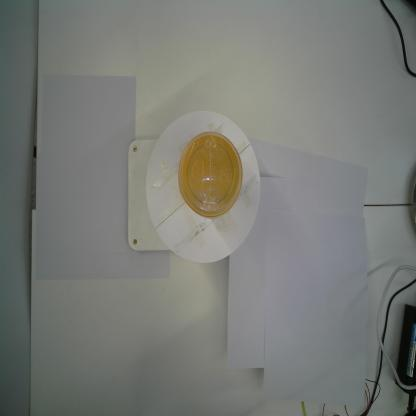Instant Drink: (178, 131, 243, 219)
